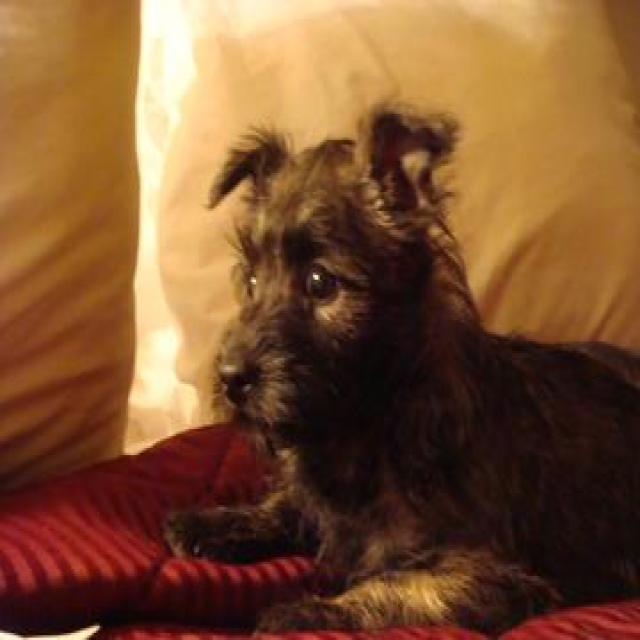dogs: (169, 90, 611, 591)
